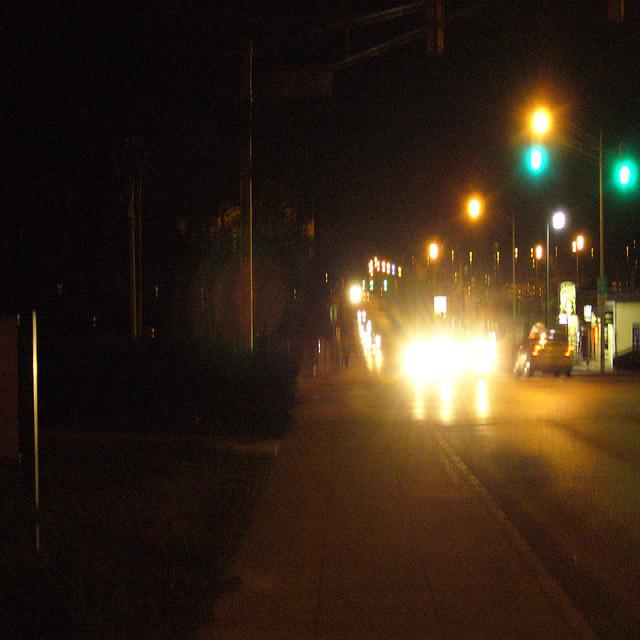Vehicle: (511, 330, 575, 380), (364, 328, 383, 351), (355, 308, 375, 323)
